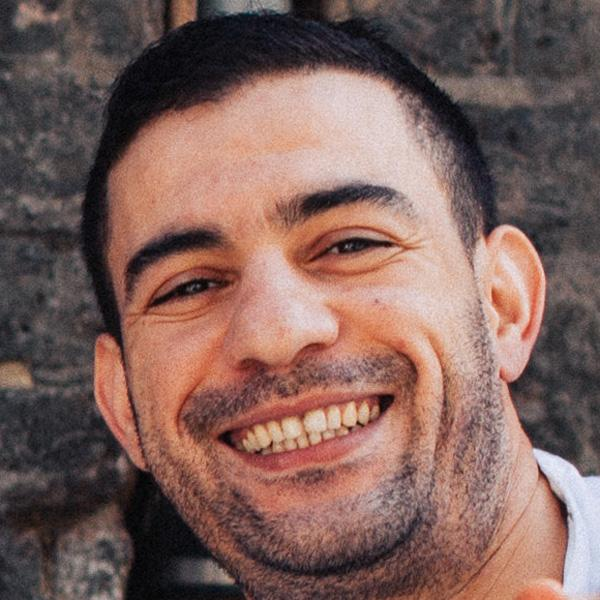Eyes: (136, 256, 244, 324), (298, 216, 405, 275)
